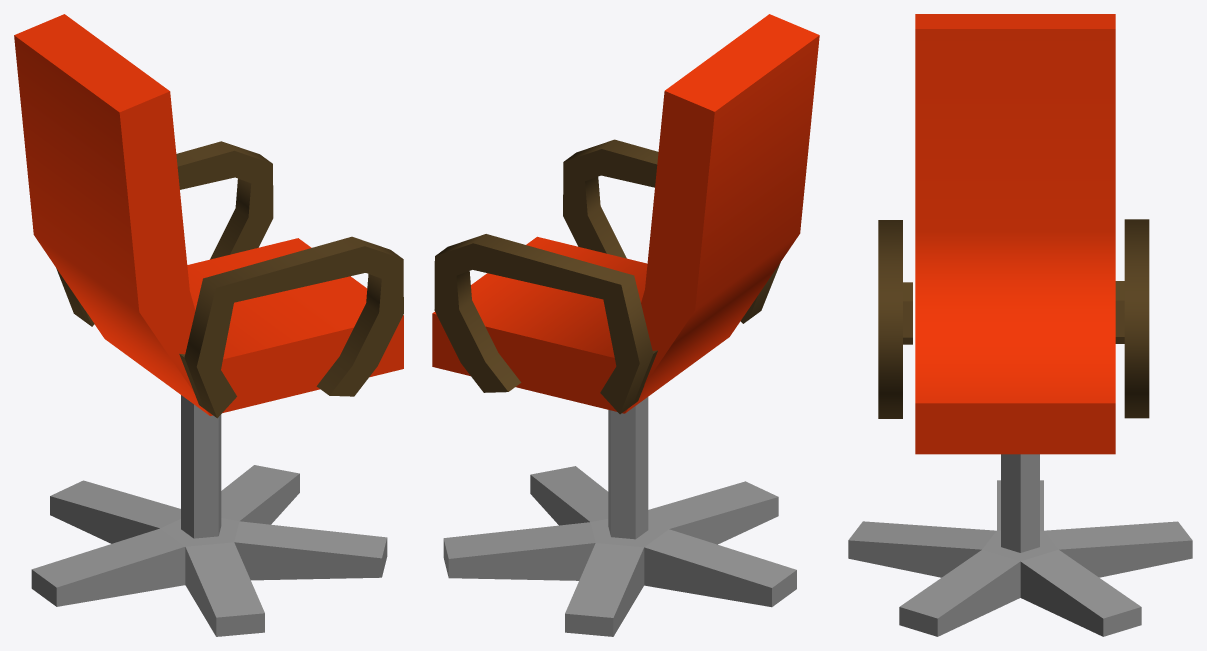
Rendered from desk chair.FBX.
3 renders of one model, left to right at view 1: azimuth 30°, elevation 25°; view 2: azimuth 150°, elevation 25°; view 3: azimuth 270°, elevation 25°, orthographic. The views are drawn at different scales.
Visible parts, largest first — view 1: Box001, Cylinder002, Box002, Box003; view 2: Box001, Cylinder002, Box003, Box002; view 3: Box001, Cylinder002, Box003, Box002.
Boxes of the visible parts, x1,y1,x2,y2 form: Box001: (14,14,403,415); Cylinder002: (31,395,387,636); Box002: (179,236,403,418); Box003: (56,141,273,326); Box001: (432,14,819,413); Cylinder002: (443,397,796,636); Box003: (434,234,657,414); Box002: (563,139,780,323); Box001: (915,14,1115,454); Cylinder002: (848,454,1192,636); Box003: (1115,219,1149,418); Box002: (878,220,912,418).
Size of the model in its own units: 33.1 by 56.08 by 34.24.
